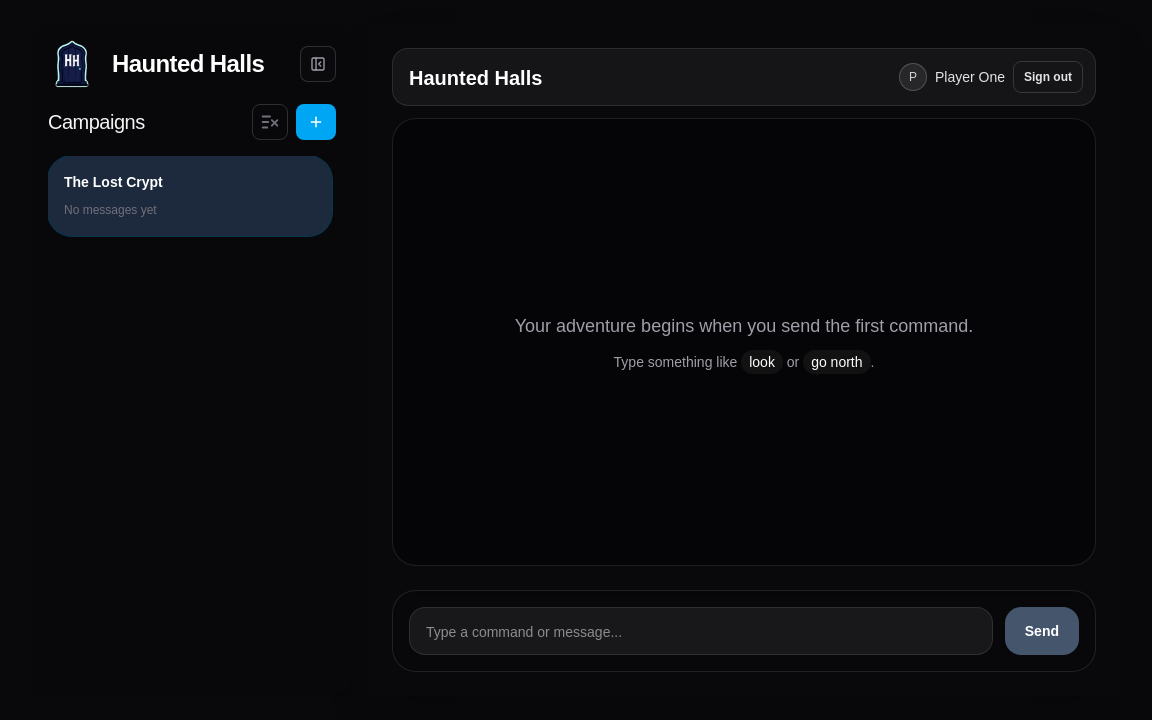
Test: home auth gating › marks network and server failures as ambiguous with Retry when the logical send carries a stable idempotency key
The width and height of the screenshot is (1152, 720).
Type "open the iron door" into the text box named "Enter your command".
click(701, 631); type("open the iron door")  # box [409,607,993,655]
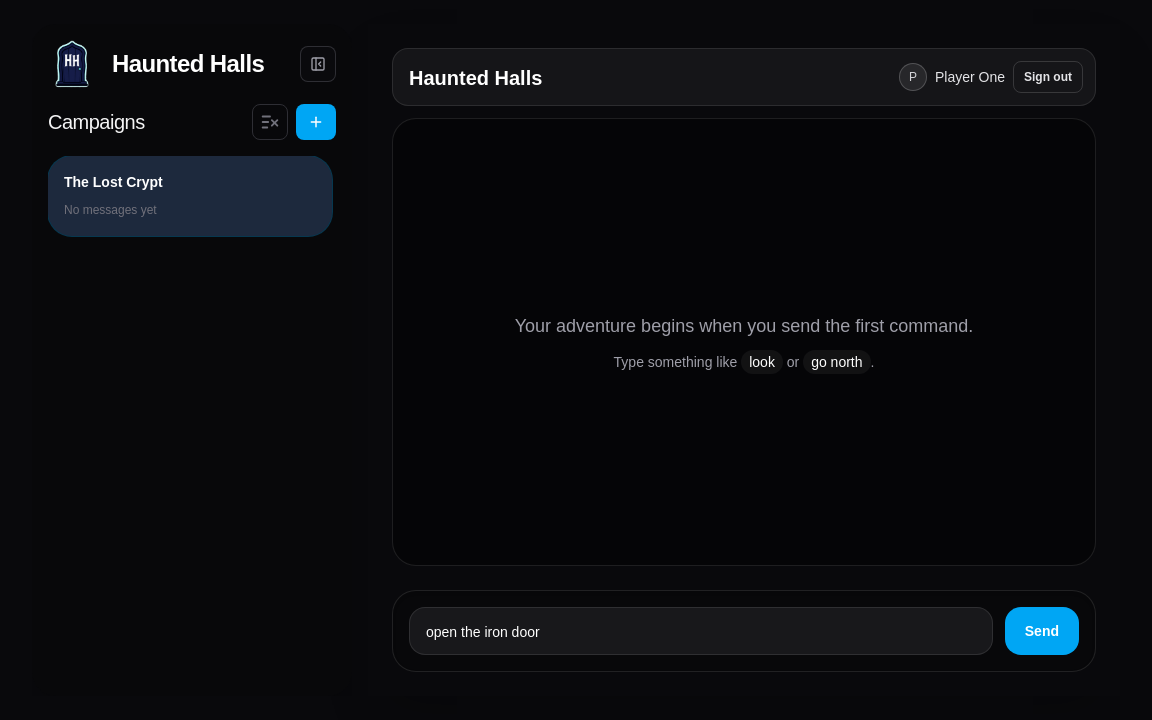
Click the button "Send".
click(1042, 631)  # box [1005,607,1079,655]
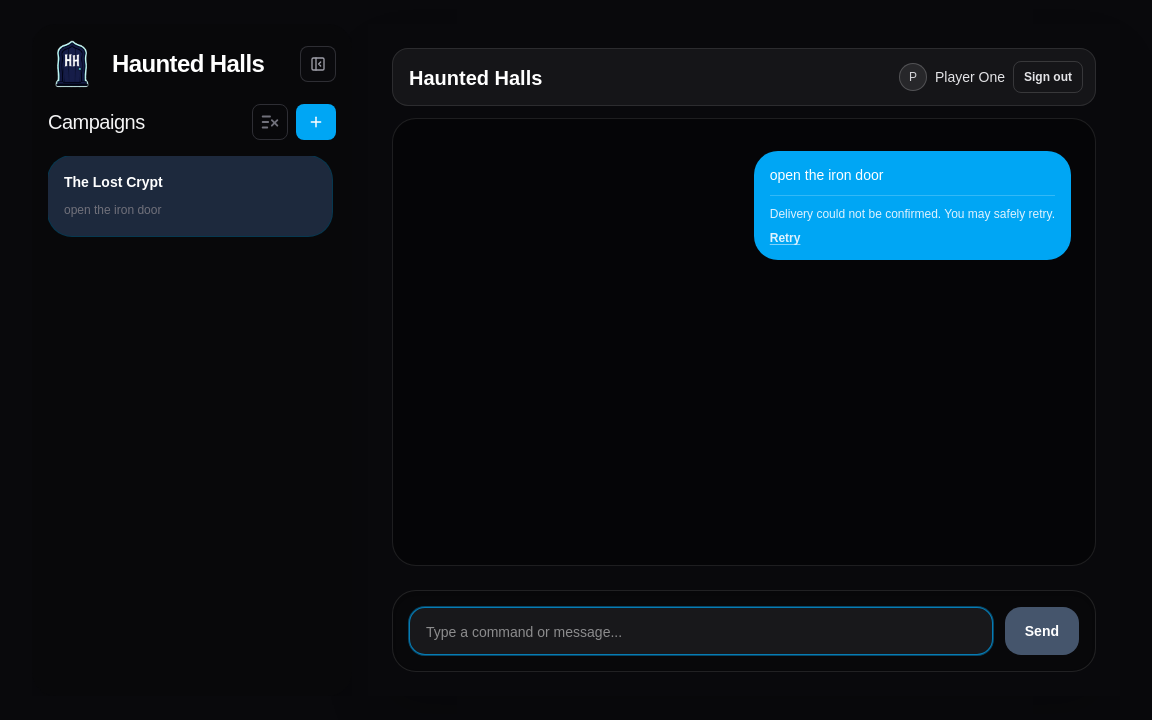
Expected: the text "open the iron door" is shown 2 times, [64,203,161,217]; [770,167,883,183]
Result: the text "Delivery could not be confirmed. You may safely retry." is shown at [770,204,1055,224]
Result: the button with aria-label "Retry sending" is shown at [770,228,800,248]
